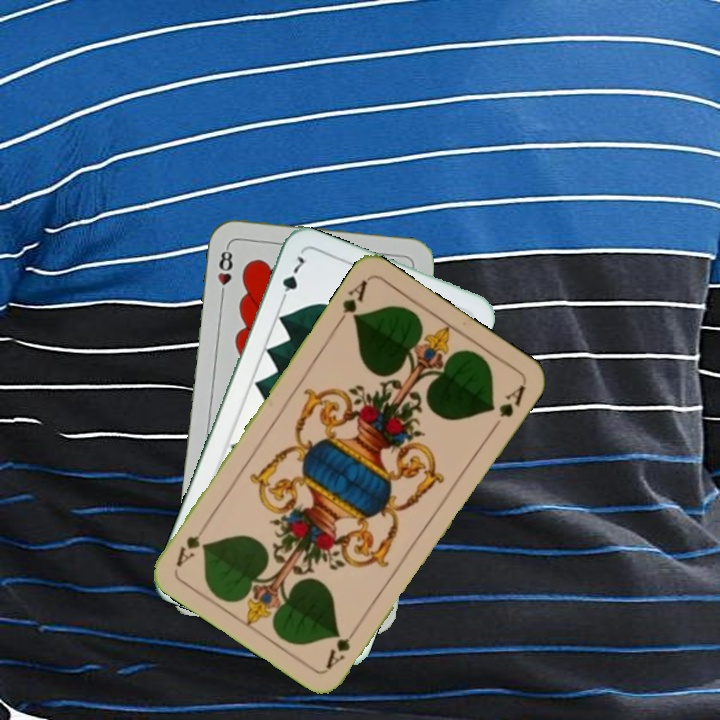G7: (276, 251, 308, 307)
GA: (322, 620, 362, 672), (332, 275, 370, 329)
H8: (214, 242, 236, 301)
